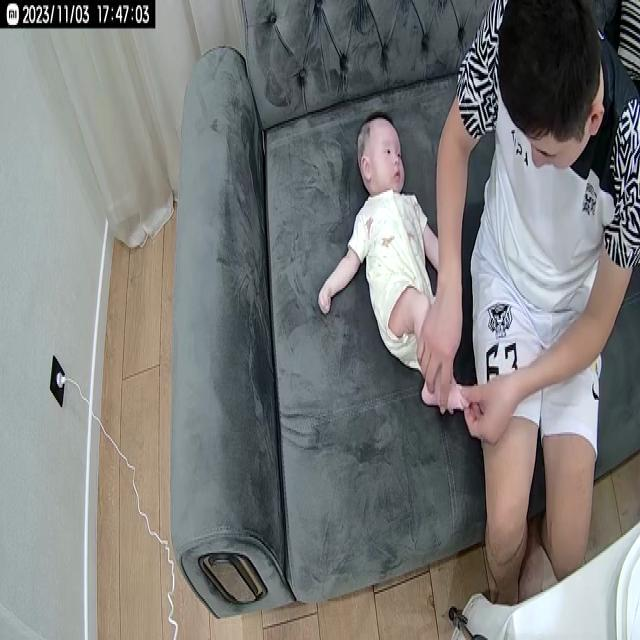baby: (314, 110, 479, 414)
